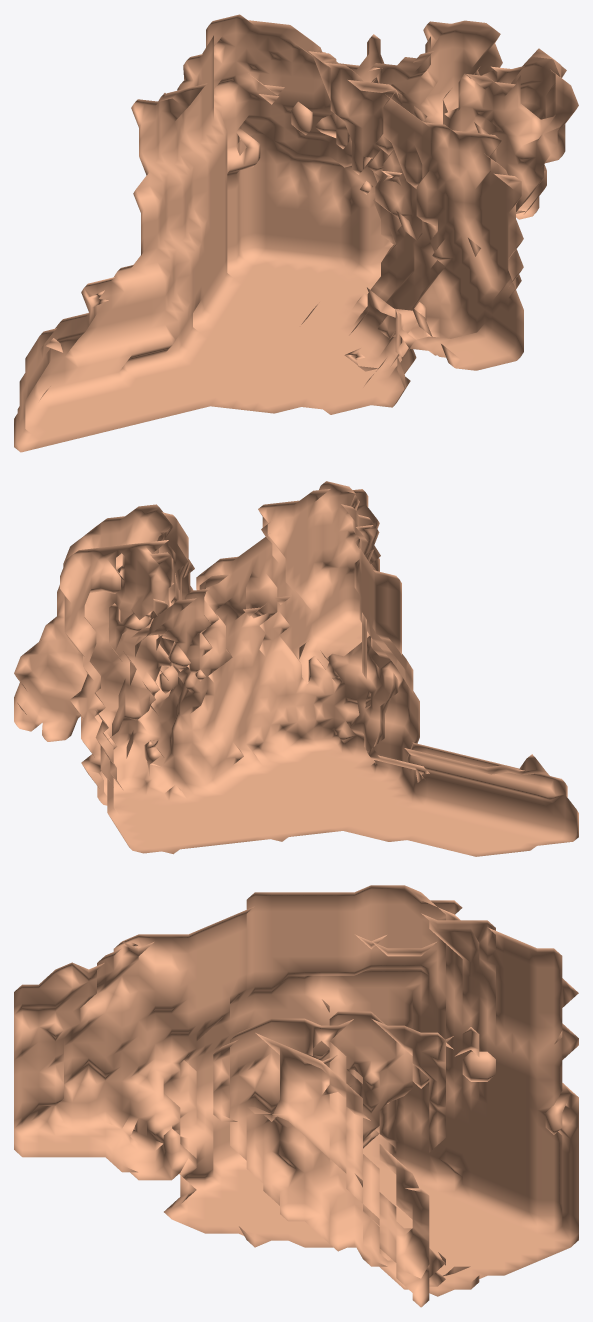
Rendered from osteocyte_17.glb.
3 renders of one model, top to bottom at view 1: azimuth 30°, elevation 25°; view 2: azimuth 150°, elevation 25°; view 3: azimuth 270°, elevation 25°, orthographic. The views are drawn at different scales.
Parts seen in each view (by area): view 1: osteocyte_17; view 2: osteocyte_17; view 3: osteocyte_17.
Part boxes in pixels (left/top/right/bottom): osteocyte_17: left=14, top=14, right=578, bottom=452; osteocyte_17: left=14, top=481, right=578, bottom=856; osteocyte_17: left=14, top=885, right=578, bottom=1307.
Bounding box in the file's own units: 19.67 × 8.05 × 15.2.
